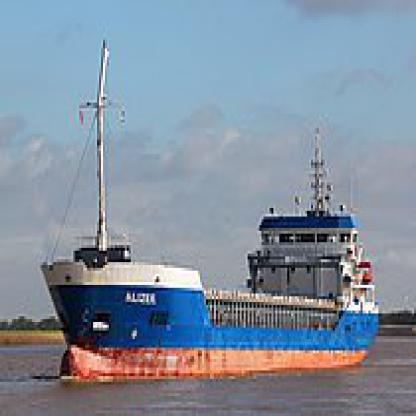Container Ship: (38, 37, 381, 383)
